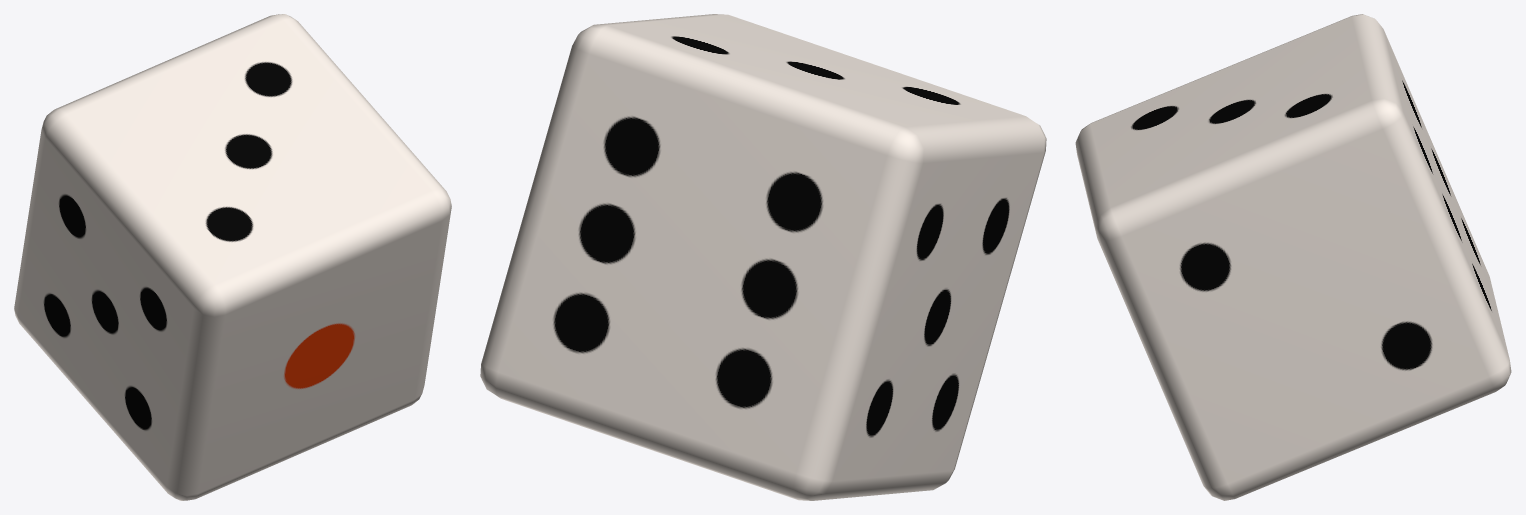
Rendered from dice_5_Anim.fbx.
3 renders of one model, left to right at view 1: azimuth 30°, elevation 25°; view 2: azimuth 150°, elevation 25°; view 3: azimuth 270°, elevation 25°, orthographic. The views are drawn at different scales.
Parts seen in each view (by area): view 1: dice5:pCube1; view 2: dice5:pCube1; view 3: dice5:pCube1.
Part boxes in pixels (box(x1,y1,x2,y2)): dice5:pCube1: box(14, 14, 451, 500); dice5:pCube1: box(480, 14, 1046, 500); dice5:pCube1: box(1075, 14, 1511, 500).
Bounding box in the file's own units: 0.715 × 0.8276 × 0.803.
